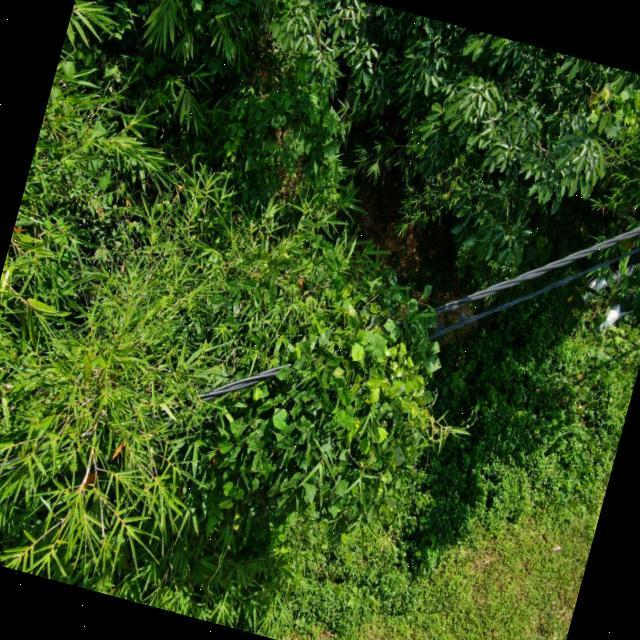critical vegetation: (252, 249, 461, 448)
